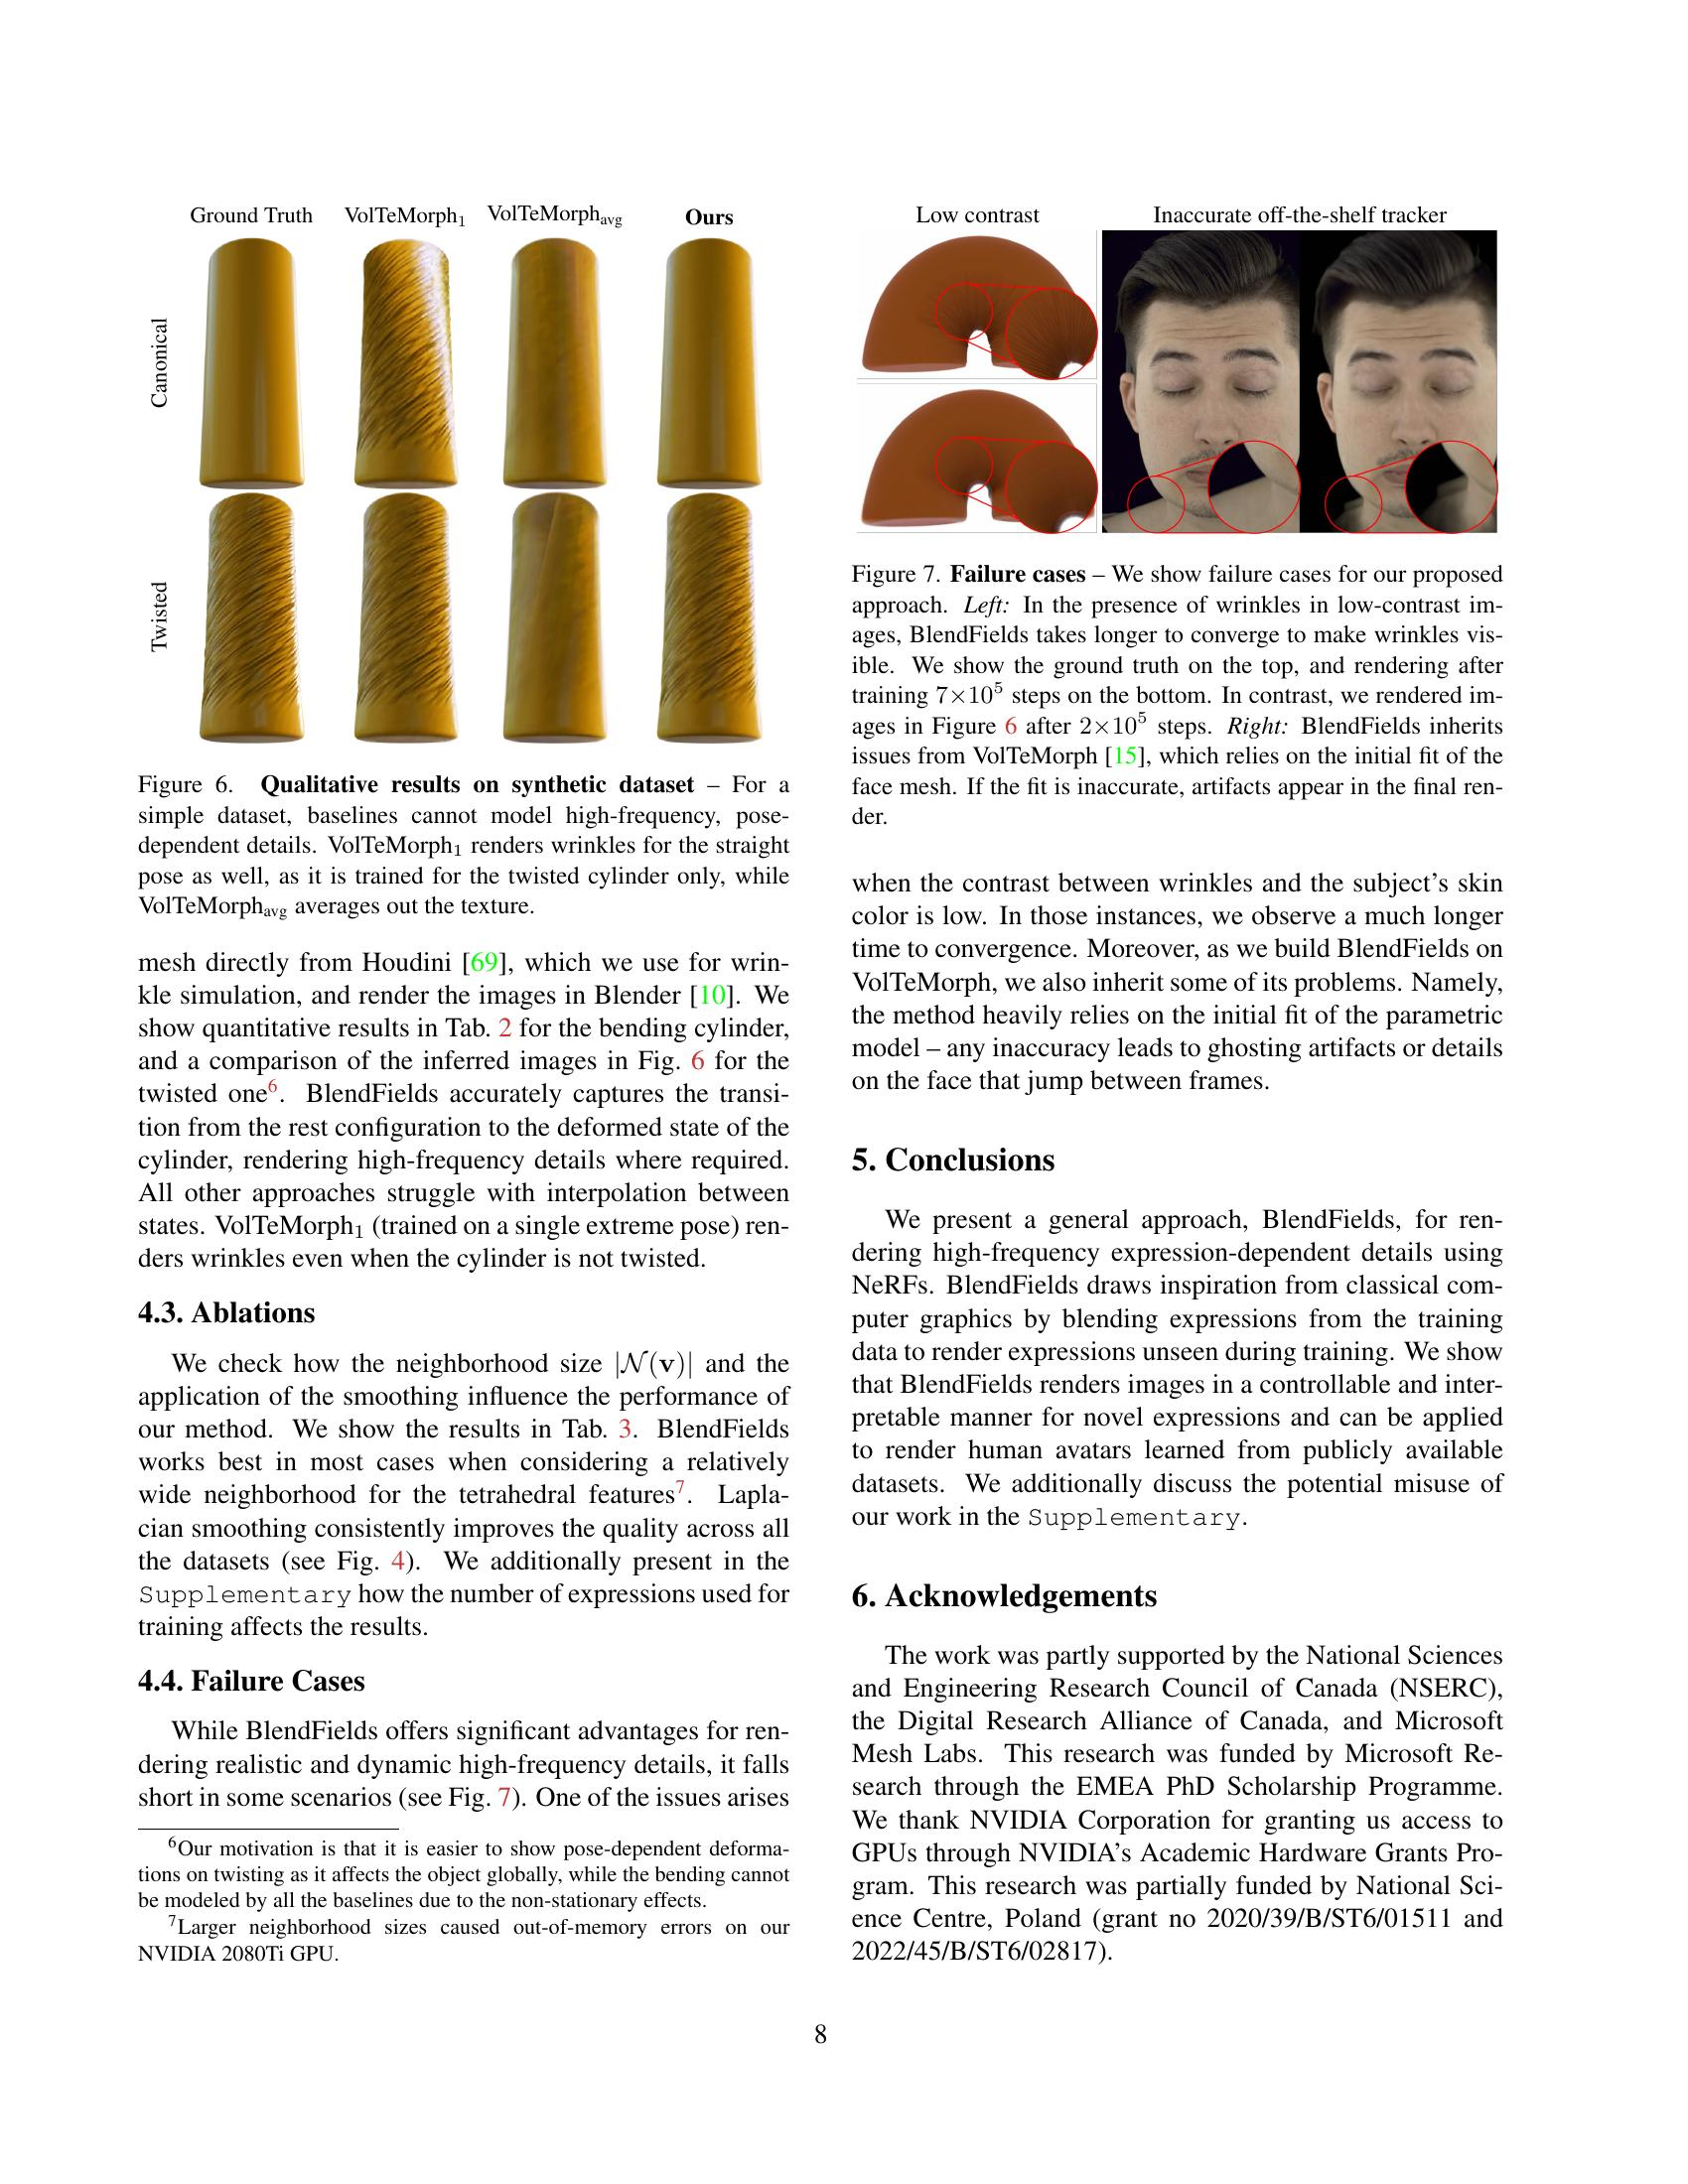figure: (131, 193, 798, 927), (842, 197, 1512, 835)
text: (128, 1292, 798, 1821), (842, 1136, 1512, 1537), (842, 1574, 1512, 1971), (128, 943, 798, 1278), (842, 863, 1512, 1103)
